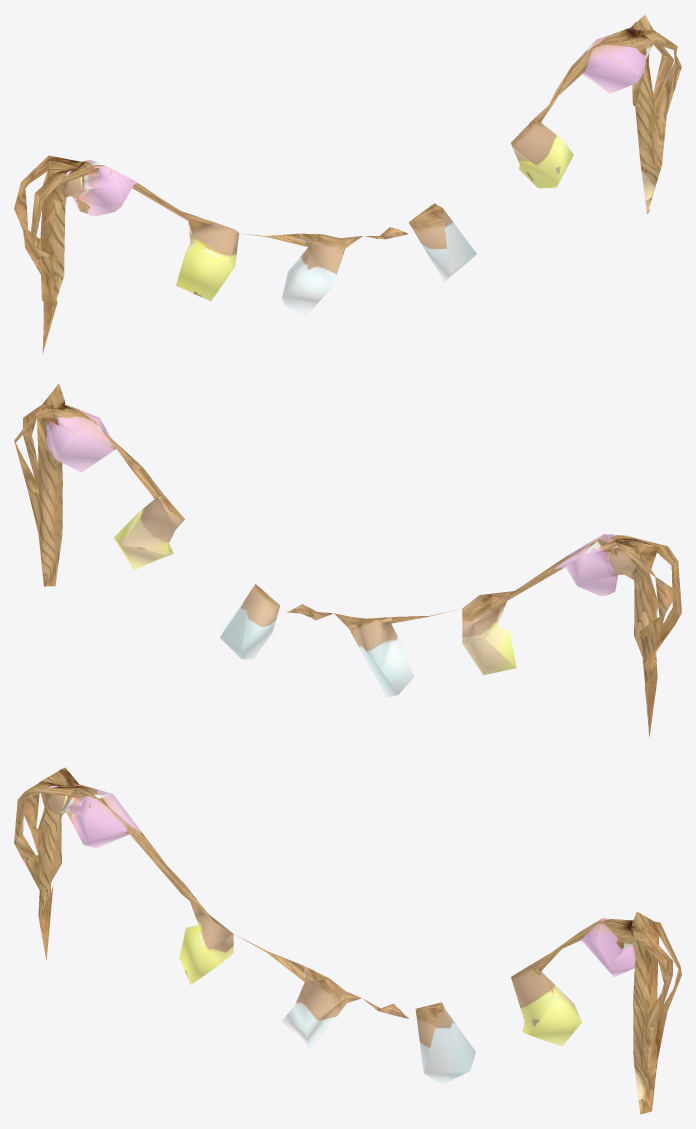
File: s1_gen_garland.glb
The picture shows the model from 3 angles, top to bottom: view 1: azimuth 30°, elevation 25°; view 2: azimuth 150°, elevation 25°; view 3: azimuth 330°, elevation 25°; orthographic projection.
Size of the model in its own units: 1.89 by 0.6184 by 0.1527.
1 material, 1 textured.
